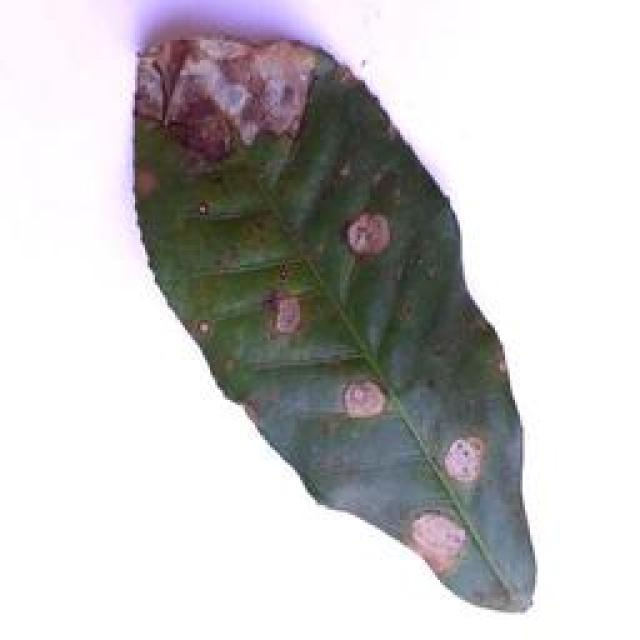Gray Blight: (136, 38, 513, 616)
